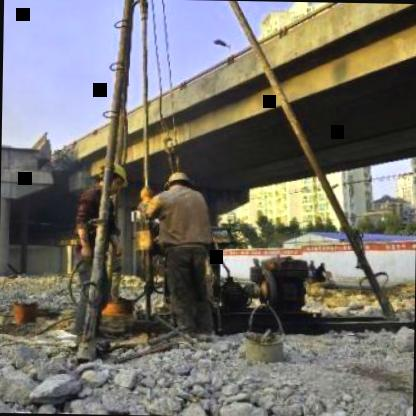helmet: (92, 158, 130, 192), (161, 171, 197, 197)
